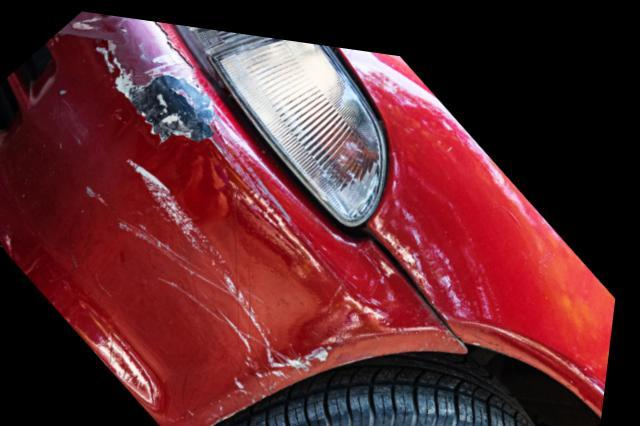dislocated part: (200, 59, 476, 349)
scratch: (100, 151, 344, 398), (56, 9, 227, 142)
